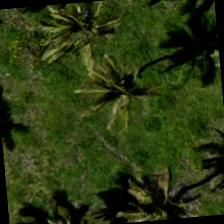Kelapa_Sawit: (62, 47, 160, 145), (29, 0, 125, 73), (107, 162, 202, 224)
